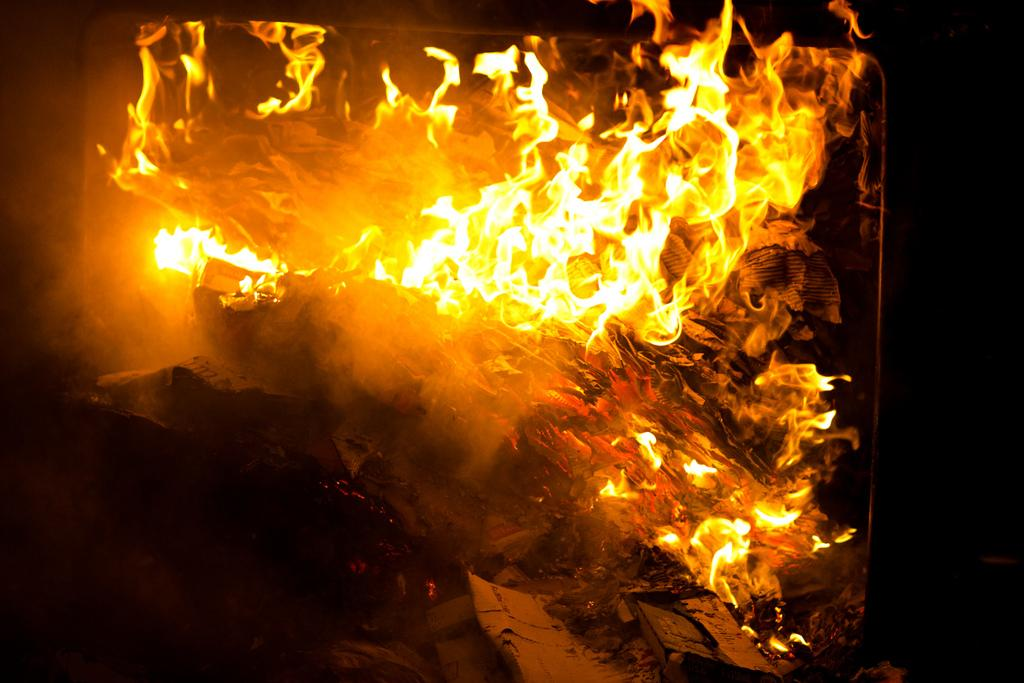fire: (445, 180, 670, 335), (678, 68, 805, 208), (150, 222, 287, 285)
